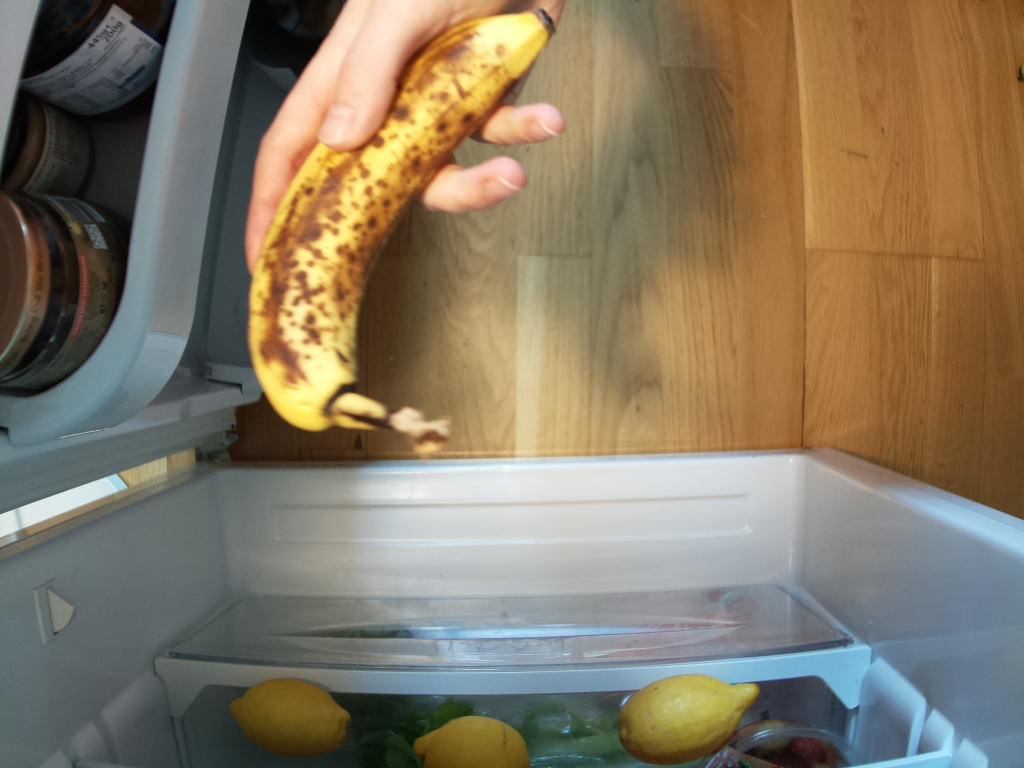banana-overripe: (247, 5, 563, 454)
